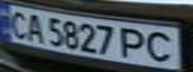2: (78, 20, 96, 54)
5: (42, 16, 66, 47)
7: (93, 22, 118, 56)
8: (60, 19, 81, 52)
A: (21, 11, 48, 43)
C: (142, 29, 184, 63), (3, 8, 30, 39)
P: (118, 25, 151, 60)
